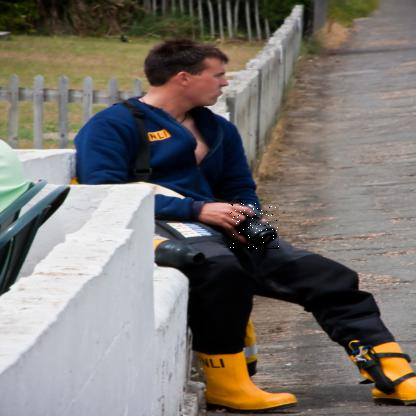Camera: (231, 204, 281, 251)
